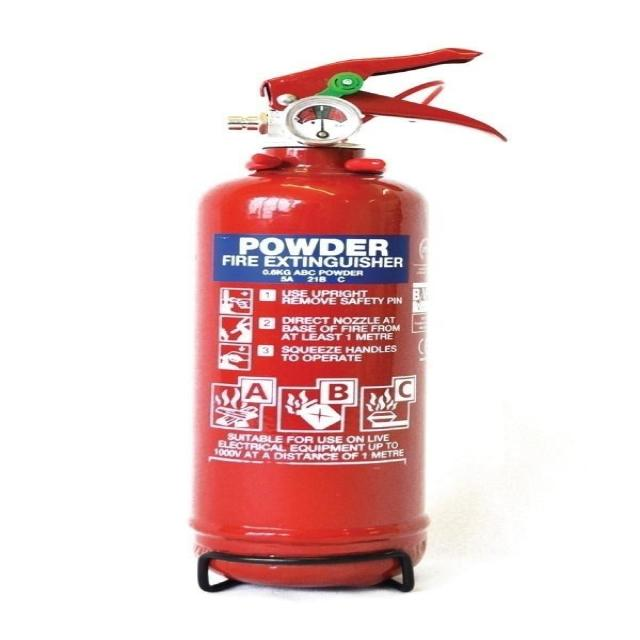fire_extinguisher: (178, 44, 512, 592)
